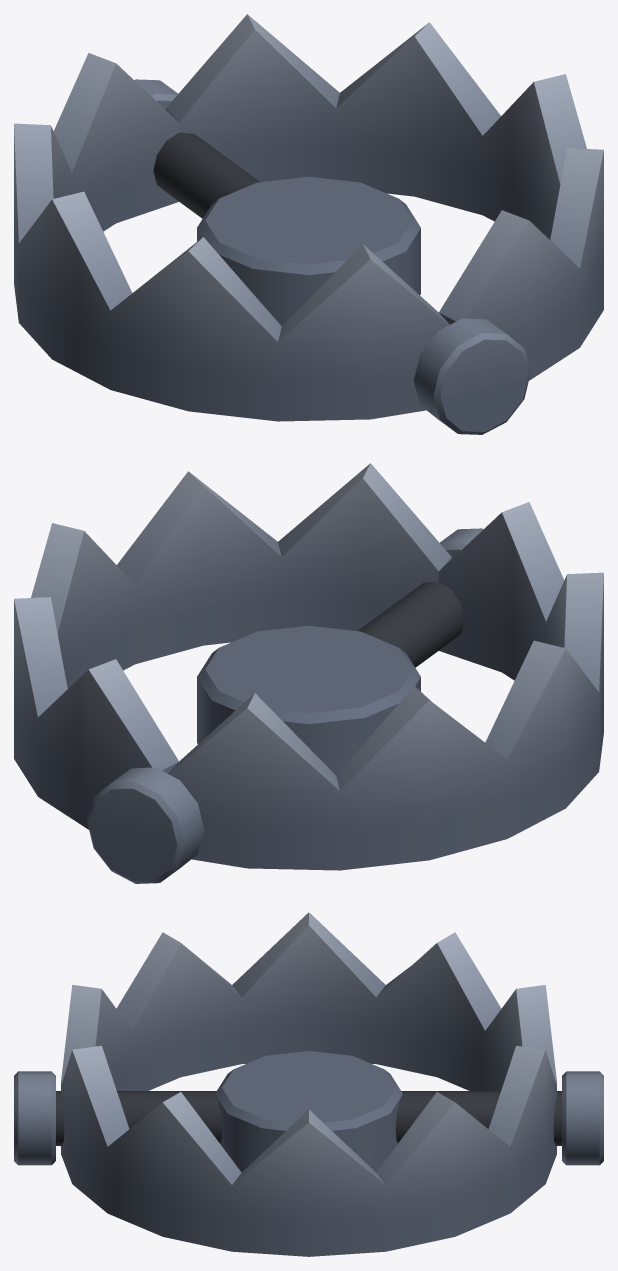
File: Bear_Trap.fbx
The picture shows the model from 3 angles, top to bottom: view 1: azimuth 30°, elevation 25°; view 2: azimuth 150°, elevation 25°; view 3: azimuth 270°, elevation 25°; orthographic projection. The views are drawn at different scales.
Visible parts, largest first — view 1: Trap_01, Trap_02, Bear_Trap; view 2: Trap_01, Trap_02, Bear_Trap; view 3: Trap_02, Trap_01, Bear_Trap.
Part boxes in pixels (left/top/right/bottom): Trap_01: left=14, top=53, right=449, bottom=421; Trap_02: left=166, top=14, right=603, bottom=380; Bear_Trap: left=134, top=79, right=530, bottom=434; Trap_01: left=168, top=502, right=603, bottom=870; Trap_02: left=14, top=463, right=451, bottom=829; Bear_Trap: left=87, top=528, right=483, bottom=883; Trap_02: left=61, top=1045, right=556, bottom=1256; Trap_01: left=61, top=912, right=556, bottom=1090; Bear_Trap: left=14, top=1051, right=603, bottom=1172.
Size of the model in its own units: 186 by 59.29 by 220.
1 material, 1 textured.
